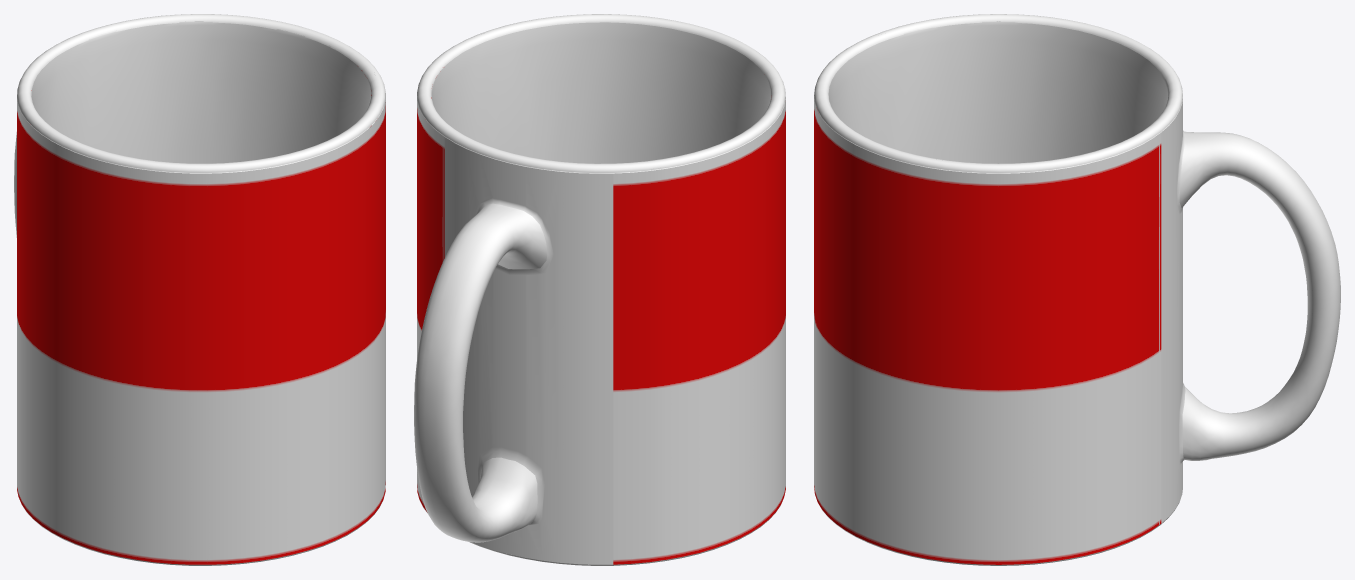
The model's file is Mug-White.glb.
3 views of the same model, side by side, from view 1: azimuth 30°, elevation 25°; view 2: azimuth 150°, elevation 25°; view 3: azimuth 270°, elevation 25° (orthographic).
Parts seen in each view (by area): view 1: Texture, 11oz-Mug.005, 11oz-Mug.003, 11oz-Mug.001; view 2: 11oz-Mug.005, Texture, 11oz-Mug.003, 11oz-Mug.001; view 3: Texture, 11oz-Mug.005, 11oz-Mug.003.
Part boxes in pixels (left/top/right/bottom): Texture: left=17, top=21, right=385, bottom=564; 11oz-Mug.005: left=14, top=21, right=371, bottom=237; 11oz-Mug.003: left=17, top=14, right=385, bottom=173; 11oz-Mug.001: left=21, top=501, right=382, bottom=565; 11oz-Mug.005: left=414, top=22, right=771, bottom=564; Texture: left=417, top=67, right=785, bottom=564; 11oz-Mug.003: left=417, top=14, right=785, bottom=173; 11oz-Mug.001: left=419, top=167, right=780, bottom=565; Texture: left=814, top=21, right=1161, bottom=564; 11oz-Mug.005: left=828, top=21, right=1340, bottom=522; 11oz-Mug.003: left=814, top=14, right=1182, bottom=173.
Size of the model in its own units: 0.0803 by 0.0958 by 0.1146.
1 material, 1 textured.
